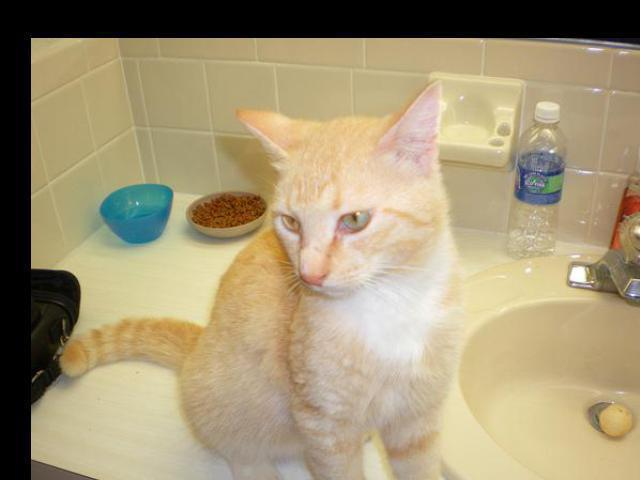Lavamanos: (401, 229, 640, 480)
Otro Obstaculo: (48, 99, 464, 480)
